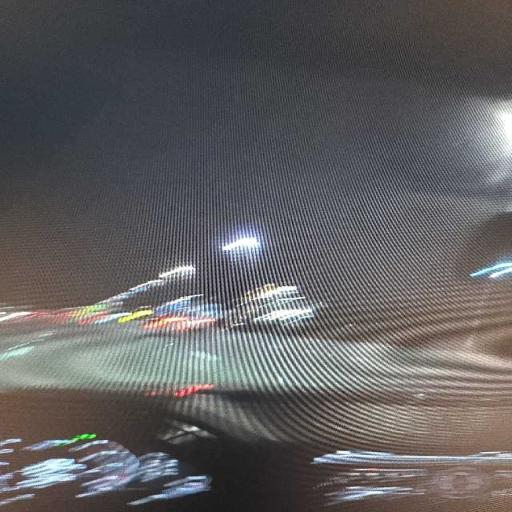car: (154, 295, 224, 318), (116, 306, 154, 324)
